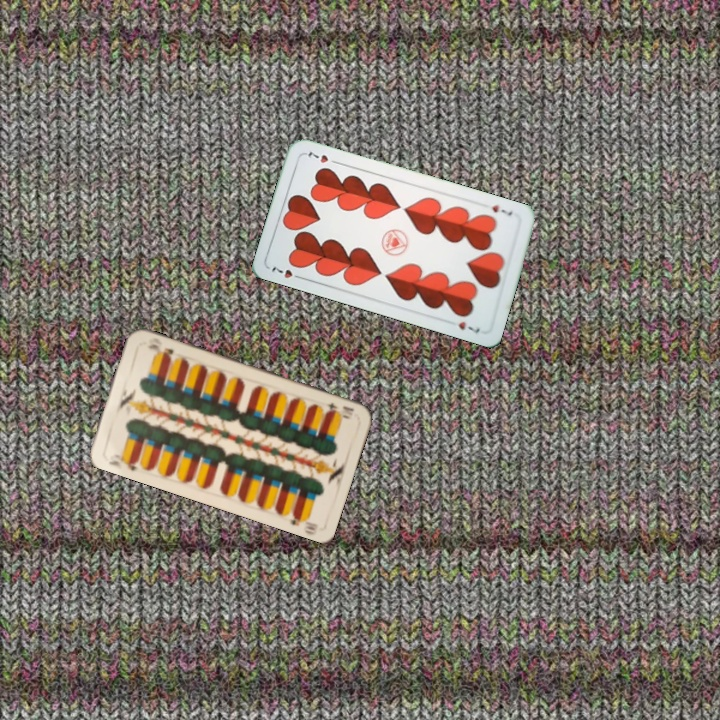E10: (323, 399, 357, 417), (105, 456, 141, 473)
H7: (267, 263, 306, 282), (488, 201, 515, 219)
